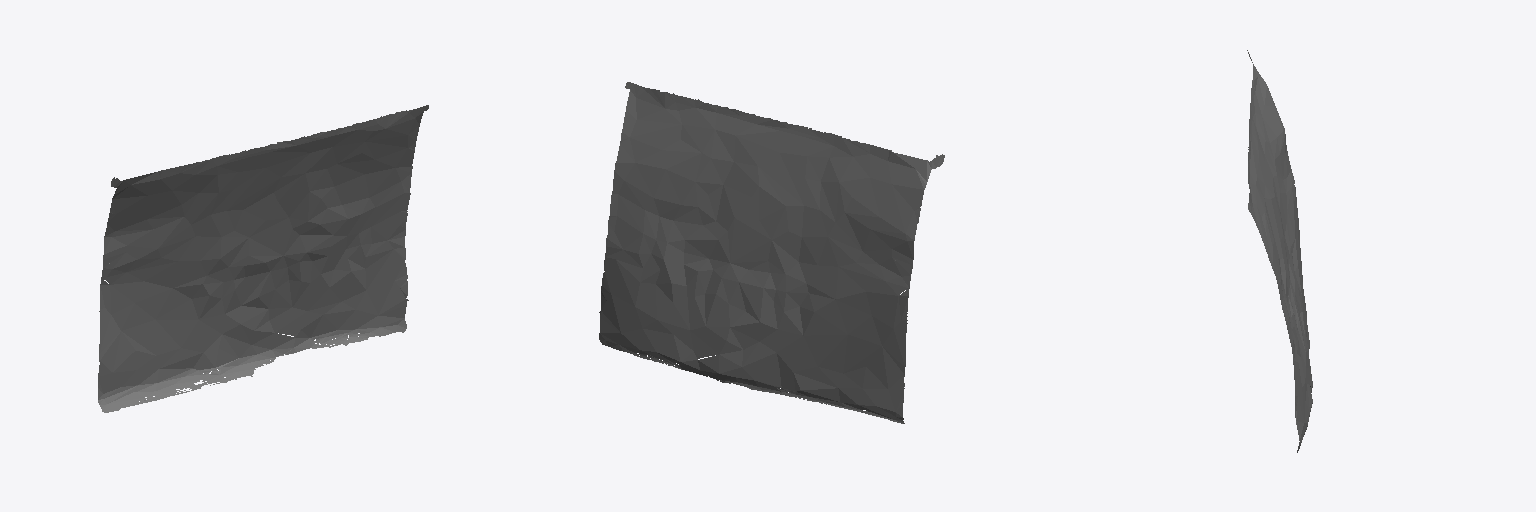
3 views of the same model, side by side, from view 1: azimuth 30°, elevation 25°; view 2: azimuth 150°, elevation 25°; view 3: azimuth 270°, elevation 25° (orthographic).
Visible parts, largest first — view 1: test; view 2: test; view 3: test.
Boxes of the visible parts, x1,y1,x2,y2 form: test: [98, 105, 428, 412]; test: [599, 82, 944, 423]; test: [1247, 50, 1312, 452].
Bounding box in the file's own units: 22.97 × 17.63 × 4.09.